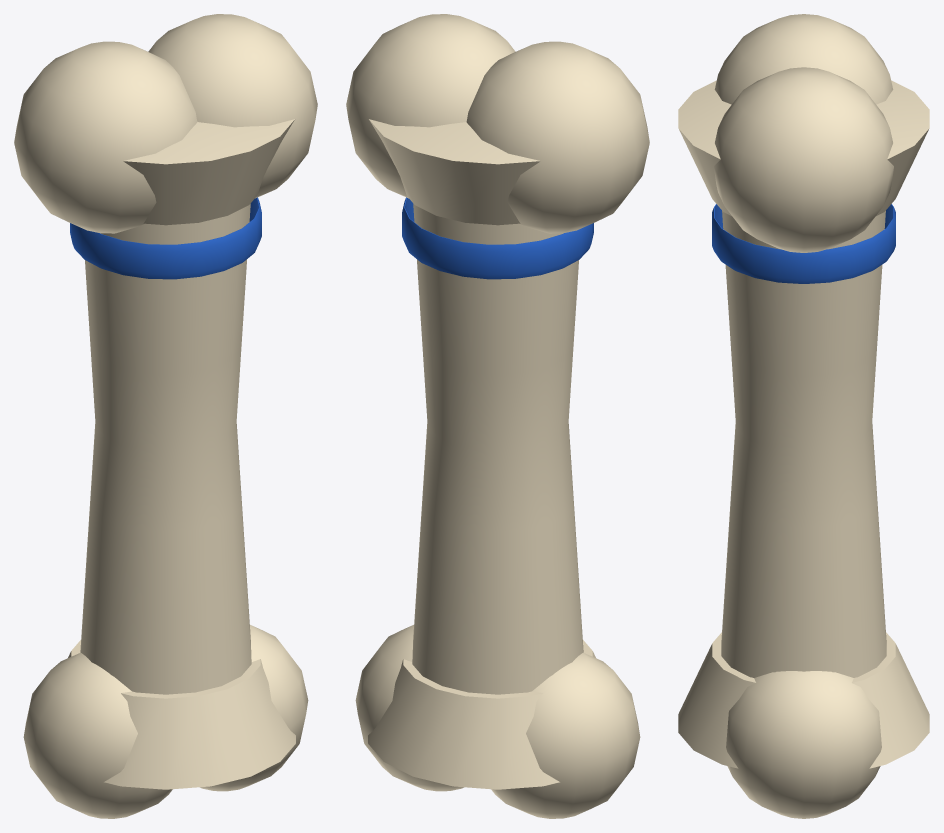
File: Kit_Limb_Bone_L.glb
The picture shows the model from 3 angles, left to right: view 1: azimuth 30°, elevation 25°; view 2: azimuth 150°, elevation 25°; view 3: azimuth 270°, elevation 25°; orthographic projection. The views are drawn at different scales.
Visible parts, largest first — view 1: Kit_Limb_Bone_L; view 2: Kit_Limb_Bone_L; view 3: Kit_Limb_Bone_L.
Boxes of the visible parts, x1=… form: Kit_Limb_Bone_L: x1=14, y1=14, x2=317, y2=818; Kit_Limb_Bone_L: x1=346, y1=14, x2=649, y2=818; Kit_Limb_Bone_L: x1=678, y1=14, x2=929, y2=818.
Size of the model in its own units: 0.1539 by 0.4002 by 0.1239.
